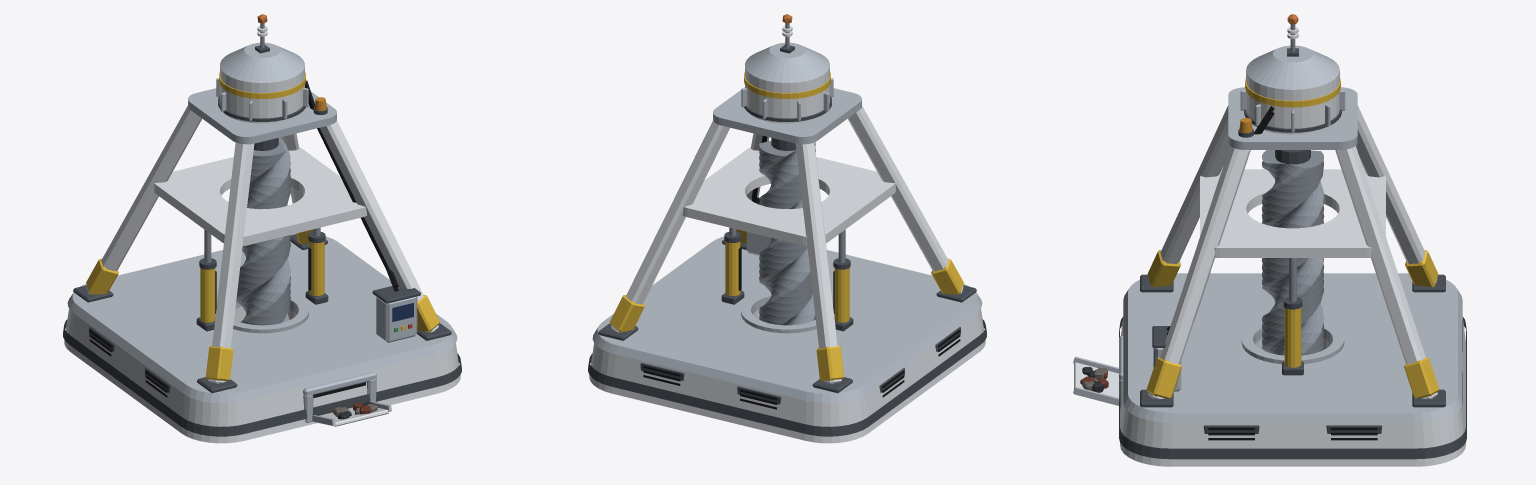
Rendered from foreuse_eco_t3.glb.
The picture shows the model from 3 angles, left to right: view 1: azimuth 30°, elevation 25°; view 2: azimuth 150°, elevation 25°; view 3: azimuth 270°, elevation 25°; orthographic projection. The views are drawn at different scales.
Parts seen in each view (by area): view 1: socle_dessus.004, pieces_blanc.006, socle.004, collier.004, foret_corps.006, socle_bande.002, pieces_jaune.004, plateau.004, capsule.002, capsule_dome.002, pieces_acier_sombre.008, pieces_gris_clair.002 (+5 smaller); view 2: socle_dessus.004, pieces_blanc.006, socle.004, collier.004, foret_corps.006, socle_bande.002, pieces_jaune.004, plateau.004, pieces_acier_sombre.008, capsule.002, capsule_dome.002, pieces_noir.008 (+2 smaller); view 3: socle_dessus.004, pieces_blanc.006, socle.004, collier.004, foret_corps.006, pieces_jaune.004, socle_bande.002, plateau.004, capsule_dome.002, capsule.002, pieces_acier_sombre.008, pieces_gris_clair.002 (+5 smaller).
Boxes of the visible parts, x1,y1,x2,y2 form: socle_dessus.004: (67, 233, 457, 403); pieces_blanc.006: (86, 26, 438, 426); socle.004: (64, 306, 460, 443); collier.004: (154, 147, 367, 245); foret_corps.006: (236, 137, 290, 325); socle_bande.002: (63, 319, 461, 436); pieces_jaune.004: (86, 229, 439, 380); plateau.004: (188, 88, 336, 144); capsule.002: (220, 67, 304, 123); capsule_dome.002: (220, 42, 304, 82); pieces_acier_sombre.008: (73, 45, 451, 393); pieces_gris_clair.002: (216, 78, 391, 425); socle_dessus.004: (592, 236, 982, 403); pieces_blanc.006: (611, 26, 963, 383); socle.004: (589, 308, 985, 443); collier.004: (682, 147, 895, 245); foret_corps.006: (759, 140, 815, 325); socle_bande.002: (588, 319, 986, 436); pieces_jaune.004: (610, 229, 963, 380); plateau.004: (713, 87, 861, 144); pieces_acier_sombre.008: (598, 45, 976, 404); capsule.002: (745, 67, 829, 123); capsule_dome.002: (745, 42, 829, 82); pieces_noir.008: (643, 136, 960, 409); socle_dessus.004: (1123, 273, 1462, 422); pieces_blanc.006: (1074, 27, 1437, 405); socle.004: (1120, 318, 1465, 466); collier.004: (1200, 169, 1385, 257); foret_corps.006: (1261, 150, 1324, 355); pieces_jaune.004: (1146, 250, 1439, 398); socle_bande.002: (1119, 317, 1466, 459); plateau.004: (1228, 87, 1357, 149); capsule_dome.002: (1246, 45, 1339, 89); capsule.002: (1246, 70, 1339, 134); pieces_acier_sombre.008: (1140, 48, 1445, 433); pieces_gris_clair.002: (1073, 90, 1345, 408).
Bounding box in the file's own units: 2 × 2.29 × 2.5.
